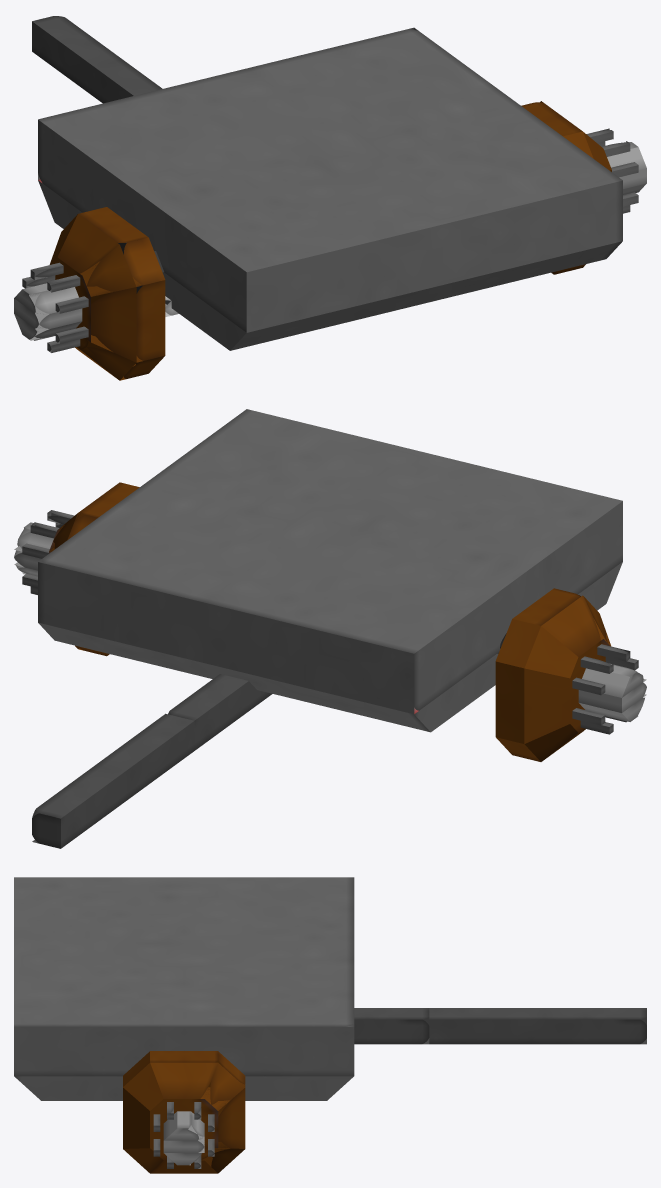
The model's file is lm_suspension_unu_rear_heavy_budd_double.obj.
3 views of the same model, one above another, from view 1: azimuth 30°, elevation 25°; view 2: azimuth 150°, elevation 25°; view 3: azimuth 270°, elevation 25° (orthographic). The views are drawn at different scales.
Parts seen in each view (by area): view 1: cuboid, $RightBackWheel, $DriveShaft, $LeftBackWheel; view 2: cuboid, $RightBackWheel, $DriveShaft, $LeftBackWheel; view 3: cuboid, $LeftBackWheel, $DriveShaft.
Boxes of the visible parts, x1,y1,x2,y2 form: cuboid: [38, 27, 622, 350]; $RightBackWheel: [14, 207, 165, 380]; $DriveShaft: [32, 16, 162, 103]; $LeftBackWheel: [521, 101, 646, 274]; cuboid: [38, 409, 622, 732]; $RightBackWheel: [495, 588, 646, 761]; $DriveShaft: [32, 674, 272, 848]; $LeftBackWheel: [14, 482, 139, 656]; cuboid: [14, 877, 354, 1100]; $LeftBackWheel: [123, 1051, 245, 1173]; $DriveShaft: [354, 1008, 646, 1044].
Bounding box in the file's own units: 2.62 × 0.6562 × 2.91.
1 material, 1 textured.
